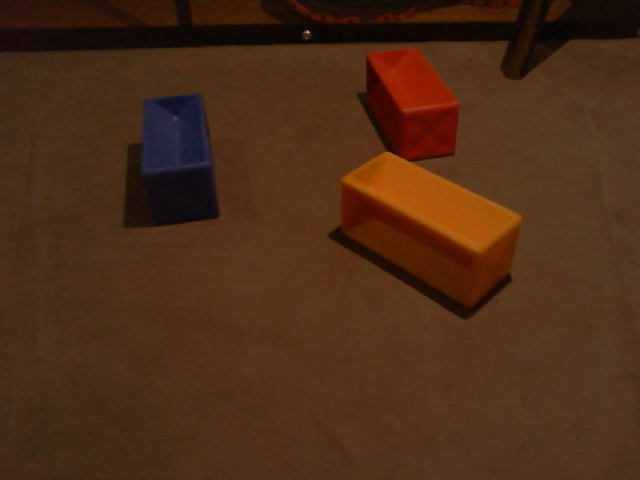BlueSample: (139, 91, 221, 227)
RedSample: (360, 46, 459, 160)
YellowSample: (339, 153, 523, 312)
